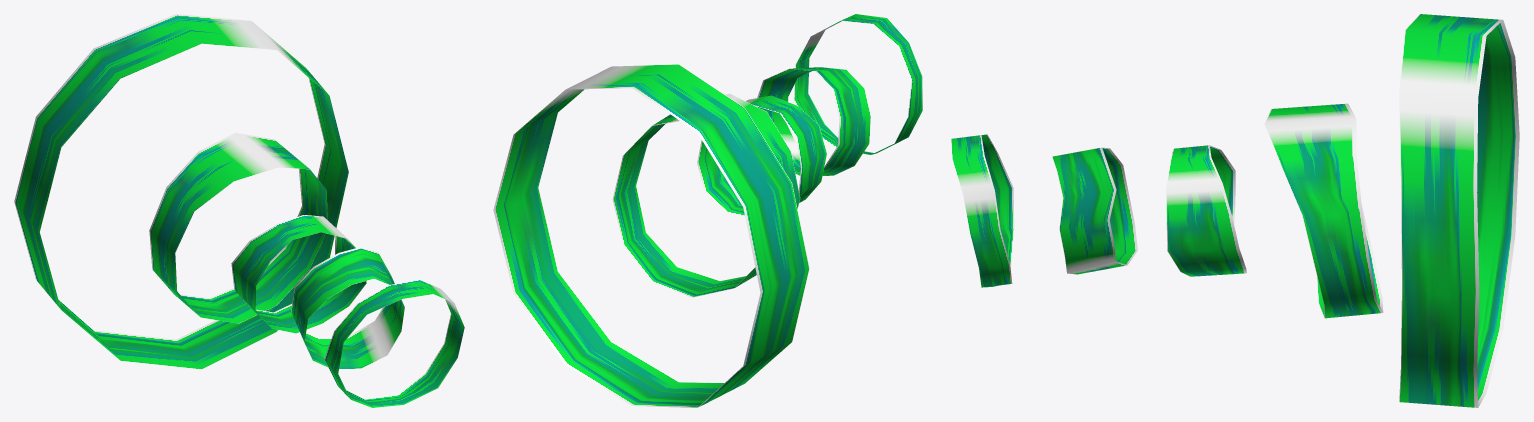
The model's file is effect_liubei_4_bb_1.FBX.
The picture shows the model from 3 angles, left to right: view 1: azimuth 30°, elevation 25°; view 2: azimuth 150°, elevation 25°; view 3: azimuth 270°, elevation 25°; orthographic projection. The views are drawn at different scales.
Parts seen in each view (by area): view 1: effect_liubei_4_bb_1; view 2: effect_liubei_4_bb_1; view 3: effect_liubei_4_bb_1.
Boxes of the visible parts, bbox=[...] form: effect_liubei_4_bb_1: bbox=[14, 14, 464, 407]; effect_liubei_4_bb_1: bbox=[493, 14, 922, 407]; effect_liubei_4_bb_1: bbox=[951, 14, 1519, 407].
Bounding box in the file's own units: 331 × 338 × 487.
Materials: 1 (1 with a texture image).
